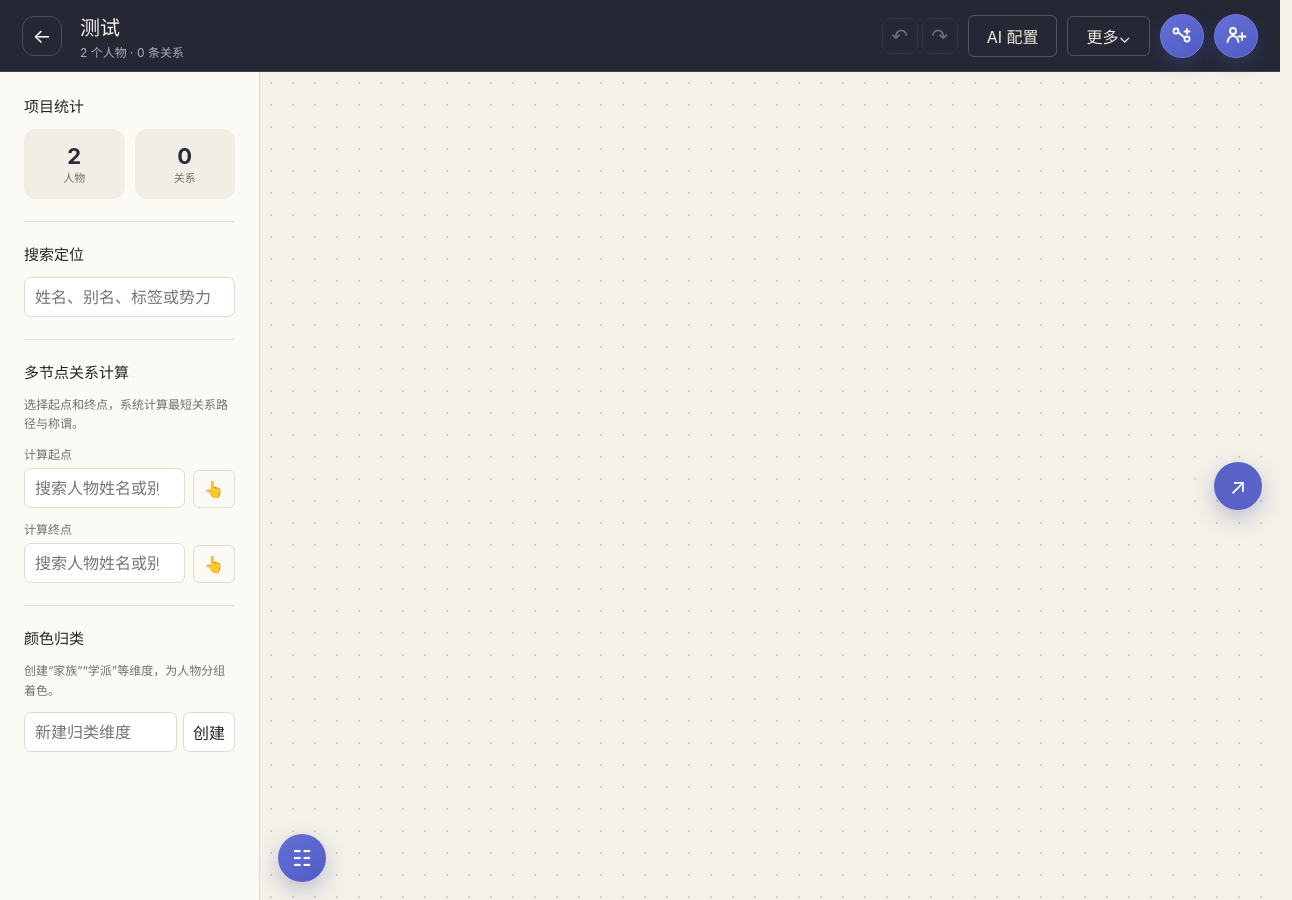
Scenario: GraphWorkspace › keeps only primary actions visible and moves secondary actions into More
Expected: the button "句子解析" is not shown
Click the button with aria-label "更多功能": (1109, 36) [1068,16,1150,56]
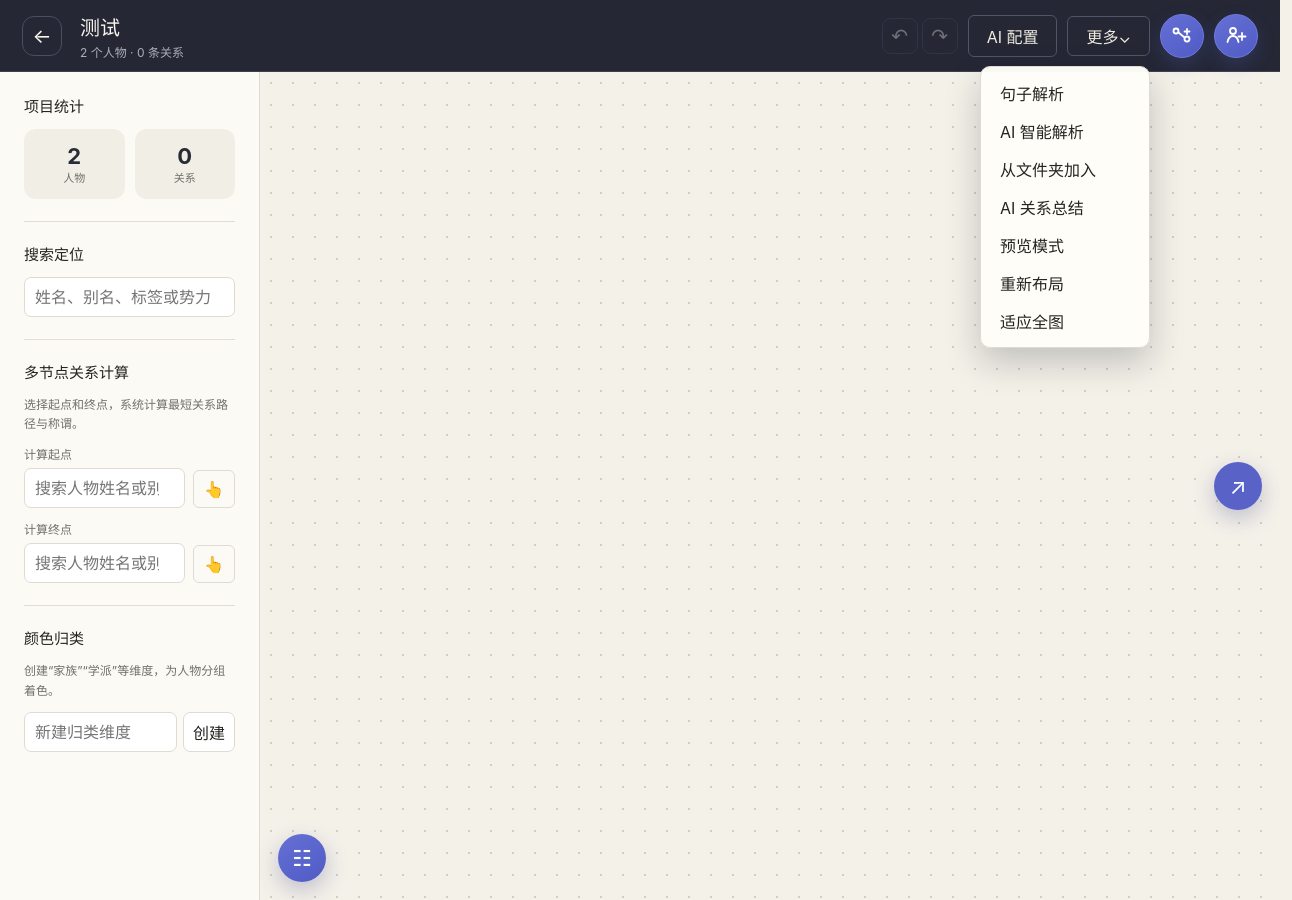
Now the menu is shown, box [980,66,1150,348]
Now the menu item "句子解析" is shown, box [988,74,1142,112]
Now the menu item "从文件夹加入" is shown, box [988,150,1142,188]
Press Escape
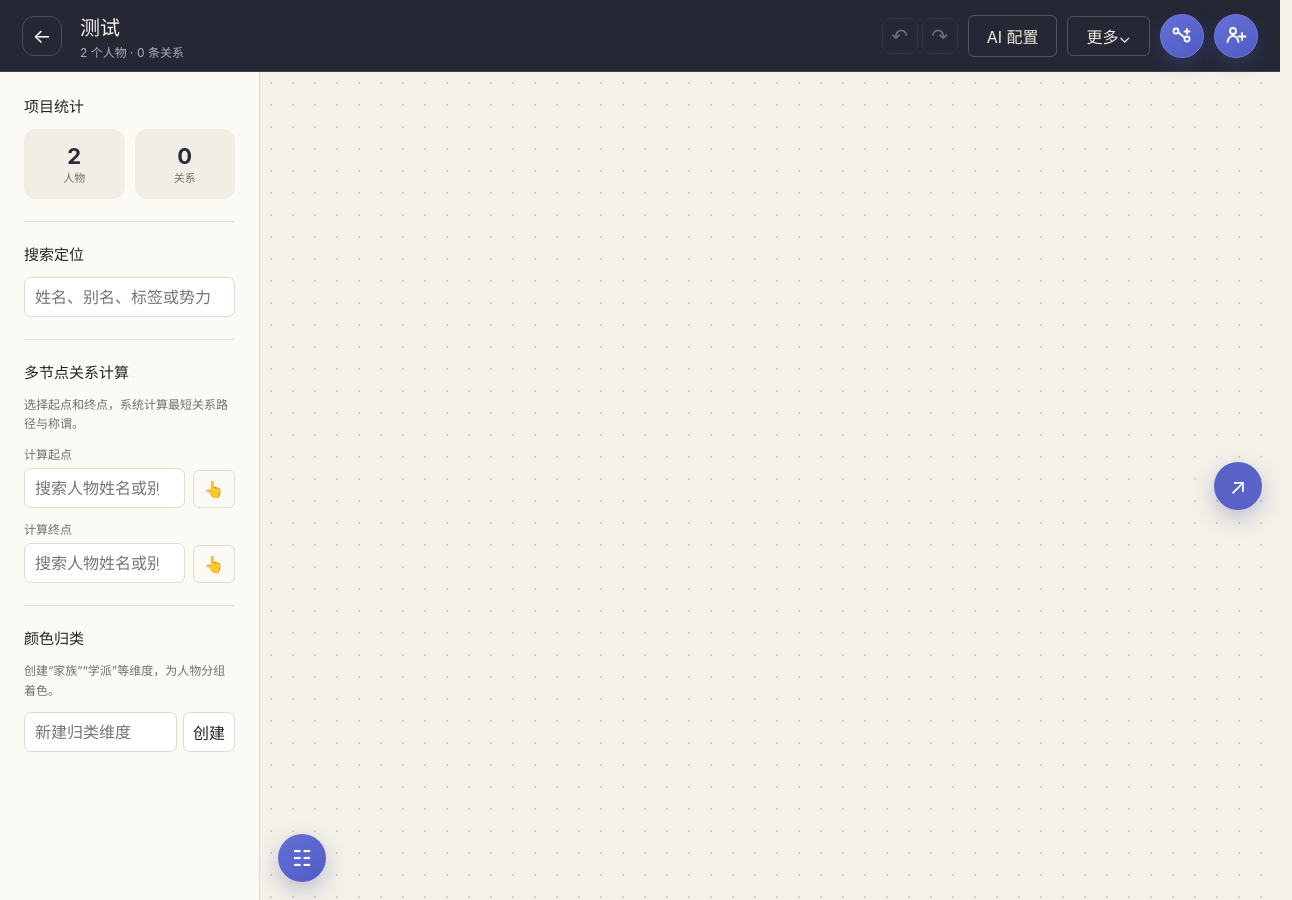
Now the menu is gone
